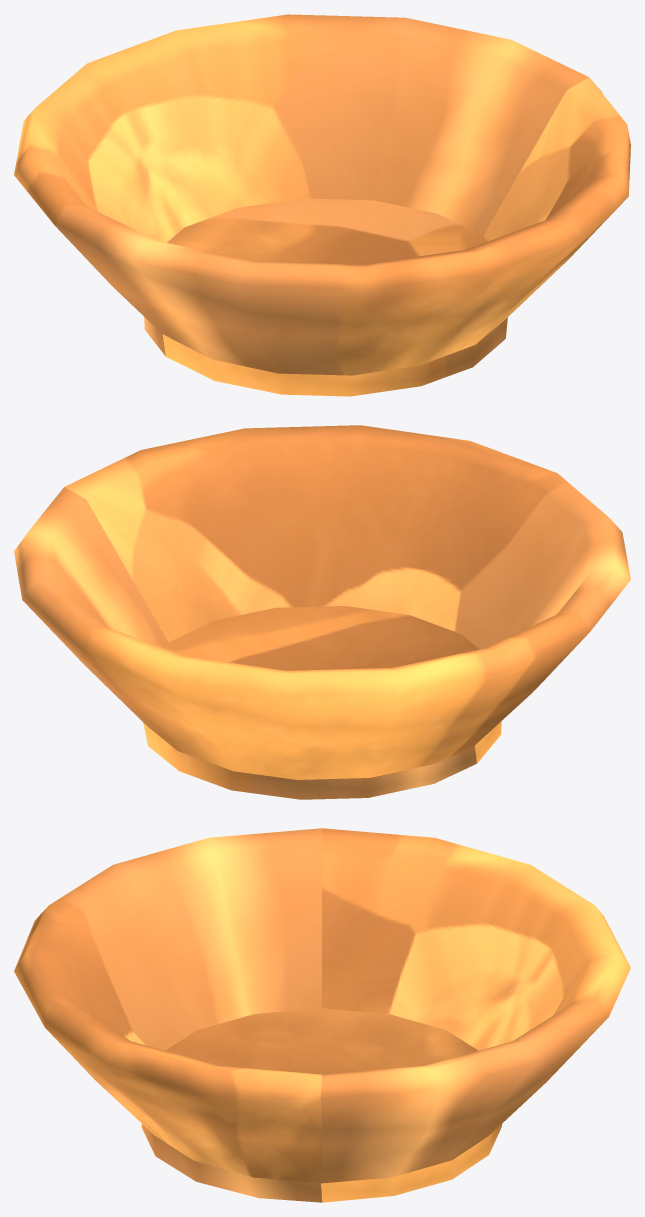
File: SM_Stylized_Dish2.fbx
3 renders of one model, top to bottom at view 1: azimuth 30°, elevation 25°; view 2: azimuth 150°, elevation 25°; view 3: azimuth 270°, elevation 25°, orthographic. The views are drawn at different scales.
Parts seen in each view (by area): view 1: SM_Stylized_Dish2_LOD0; view 2: SM_Stylized_Dish2_LOD0; view 3: SM_Stylized_Dish2_LOD0.
Part boxes in pixels (x1,y1,x2,y2): SM_Stylized_Dish2_LOD0: (14, 14, 630, 396); SM_Stylized_Dish2_LOD0: (14, 425, 630, 799); SM_Stylized_Dish2_LOD0: (14, 828, 630, 1202).
Bounding box in the file's own units: 27.17 × 27.21 × 8.53.
